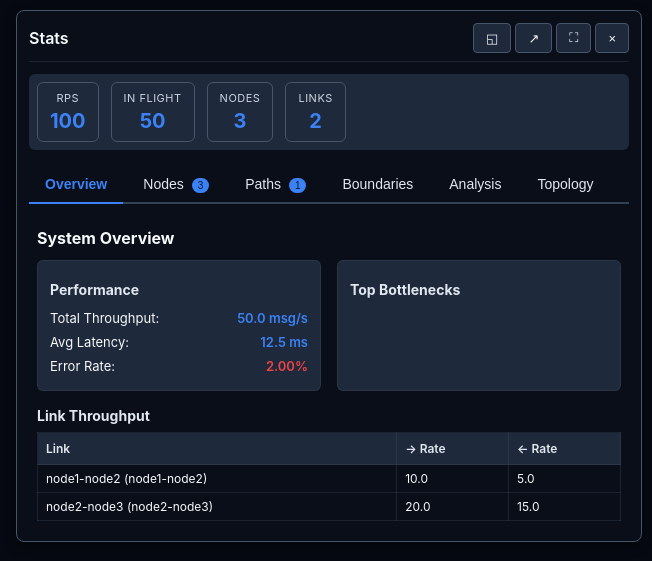
StatsOverlayEnhanced › displays analysis tab with recommendations
This screenshot has width=652, height=561.
Click the button with class "stats-tab" showing "Analysis".
click(475, 184)  # box 433,166 -> 517,202
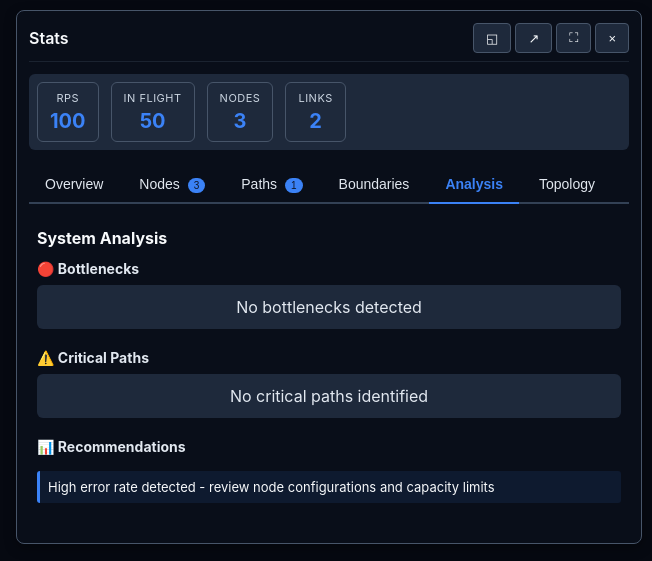
Check: the element with class "tab-panel" shows "System Analysis", box 37,228 -> 167,248
Check: the list with class "recommendations" is shown, box 37,471 -> 621,503
